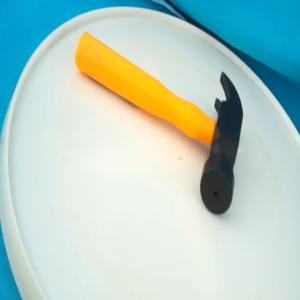martelo: (72, 27, 245, 218)
